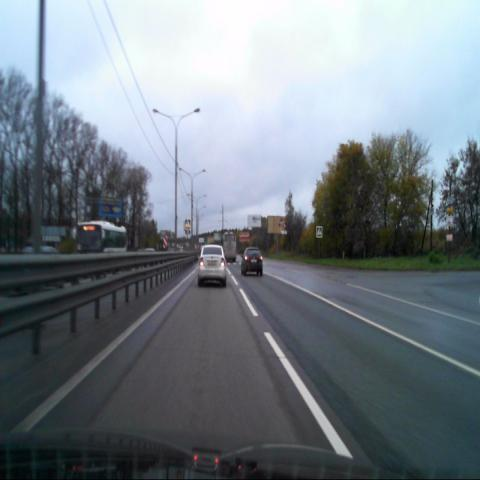5_19_1: (316, 226, 323, 237), (184, 219, 191, 229)
